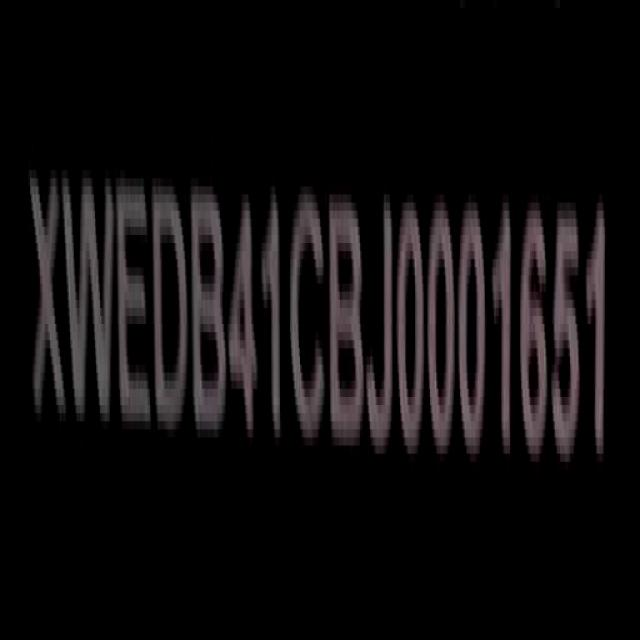0: (457, 198, 486, 462), (427, 195, 456, 456), (395, 195, 423, 465)
1: (585, 189, 613, 474), (491, 204, 513, 456), (262, 192, 282, 450)
4: (227, 192, 260, 450)
6: (551, 189, 582, 468), (520, 204, 548, 462)
B: (328, 183, 365, 450), (191, 186, 227, 450)
C: (288, 195, 326, 453)
D: (152, 180, 187, 441)
E: (115, 168, 151, 429)
J: (366, 177, 396, 453)
W: (63, 165, 115, 438)
X: (31, 168, 67, 435)
